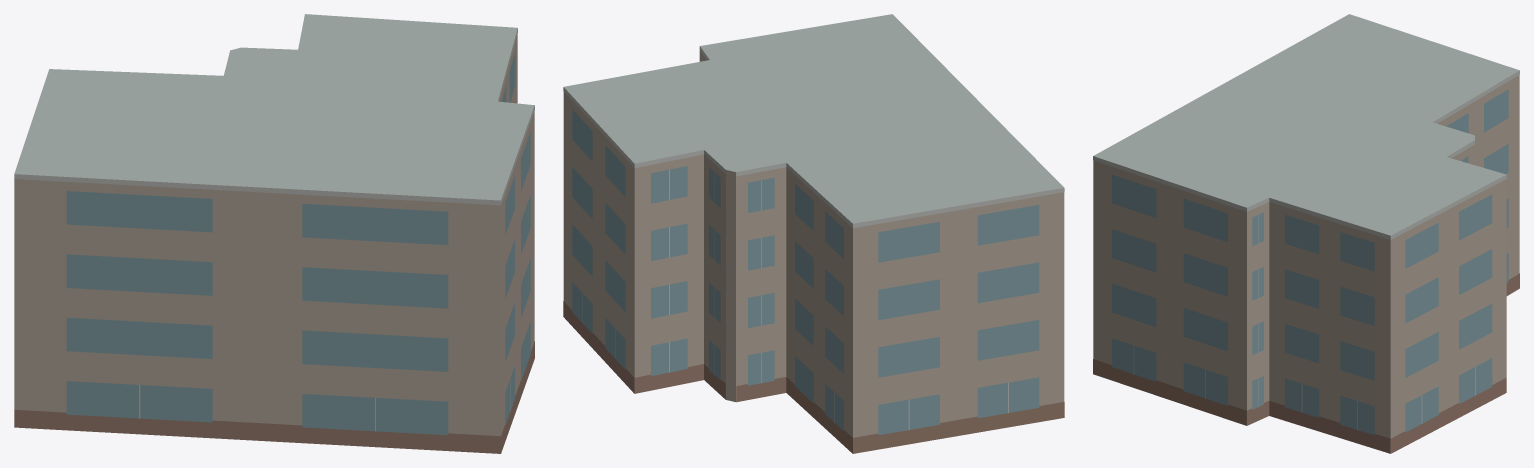
Rendered from survey-upis-32574574.glb.
The picture shows the model from 3 angles, left to right: view 1: azimuth 30°, elevation 25°; view 2: azimuth 150°, elevation 25°; view 3: azimuth 270°, elevation 25°; orthographic projection. The views are drawn at different scales.
Visible parts, largest first — view 1: survey-upis-32574574.tmp; view 2: survey-upis-32574574.tmp; view 3: survey-upis-32574574.tmp.
Part boxes in pixels (x1,y1,x2,y2): survey-upis-32574574.tmp: [14, 14, 534, 453]; survey-upis-32574574.tmp: [563, 14, 1064, 453]; survey-upis-32574574.tmp: [1093, 14, 1519, 453].
Bounding box in the file's own units: 27.69 × 12.7 × 22.51.
